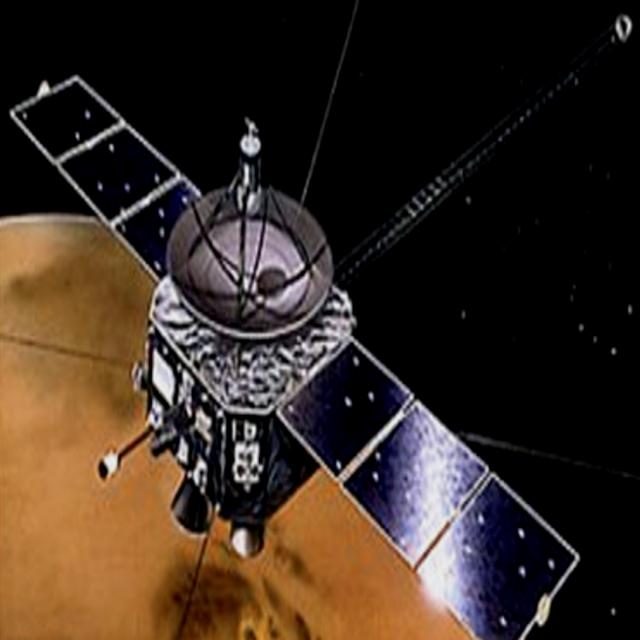medium_debris: (0, 60, 588, 640)
